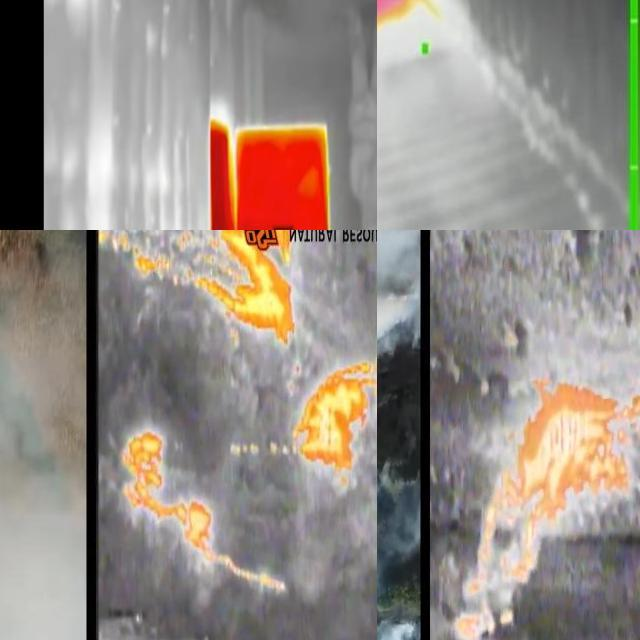fire: (455, 379, 629, 640), (88, 231, 299, 348), (122, 428, 212, 560), (295, 357, 378, 478), (211, 550, 289, 598)
